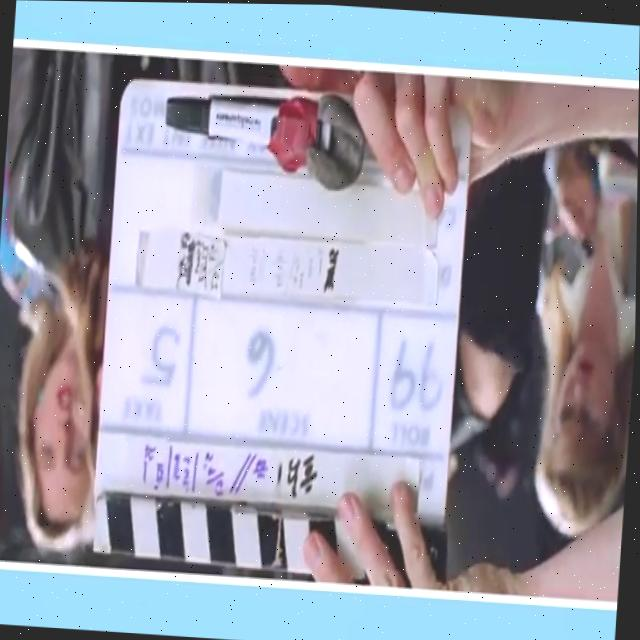Clapperboard: (90, 73, 485, 592)
